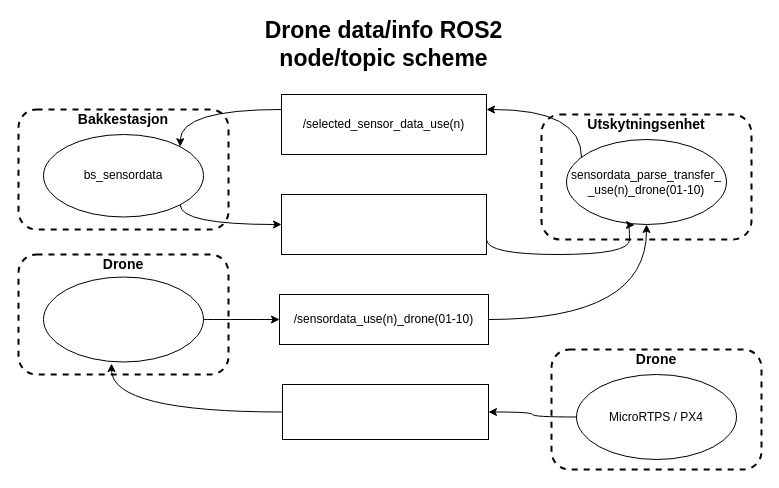
The diagram is 779 pixels wide and 488 high, and some of its shapes have lost their labels. Each missing label, with the centre of its shape:
/ SensorCombined_PubSubTopic _use(n)_drone(01-10): (x=385, y=412)
/fetch_sensor_data_use(n): (x=383, y=224)
SensorCombinedListener_ use(n)_drone(01-10): (x=123, y=319)
